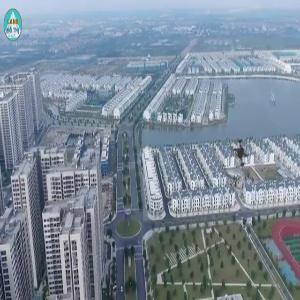drone: (217, 126, 271, 180)
